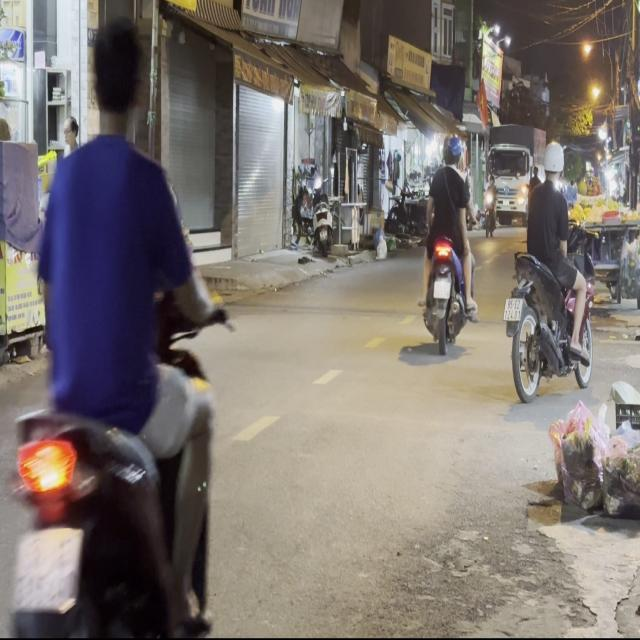helmet: (542, 140, 564, 178), (441, 134, 461, 166)
licenseplate: (1, 12, 228, 630), (502, 137, 594, 402), (417, 131, 477, 351)
motorcyclist: (88, 15, 144, 135)
nohelmet: (12, 527, 81, 607), (503, 297, 523, 320), (433, 278, 450, 297)
